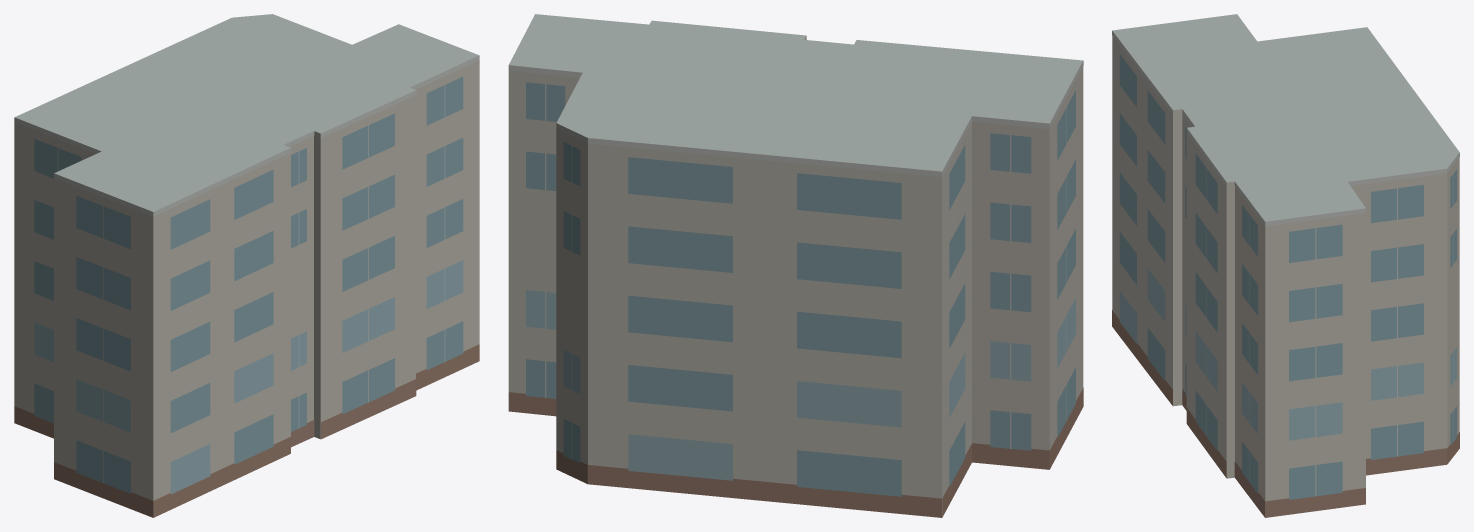
File: survey-upis-32933305.glb
3 renders of one model, left to right at view 1: azimuth 30°, elevation 25°; view 2: azimuth 150°, elevation 25°; view 3: azimuth 270°, elevation 25°, orthographic. The views are drawn at different scales.
Parts seen in each view (by area): view 1: survey-upis-32933305.tmp; view 2: survey-upis-32933305.tmp; view 3: survey-upis-32933305.tmp.
Part boxes in pixels (x1,y1,x2,y2): survey-upis-32933305.tmp: (14,14,479,517); survey-upis-32933305.tmp: (508,14,1083,517); survey-upis-32933305.tmp: (1112,14,1459,517).
Bounding box in the file's own units: 23.19 × 15.4 × 16.4.
